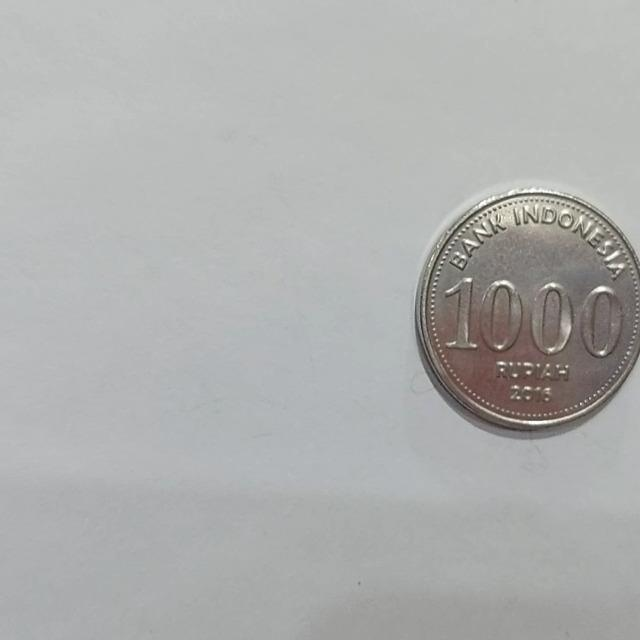Rp100: (413, 185, 640, 436)
